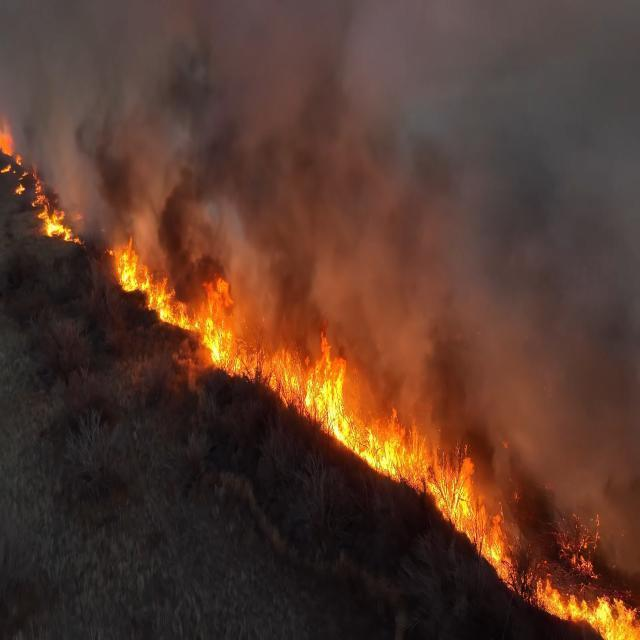Fire: (534, 570, 639, 640), (172, 264, 232, 377), (313, 399, 419, 461), (235, 325, 352, 381), (114, 245, 176, 335), (426, 451, 481, 520)
Smoke: (98, 49, 640, 245)
